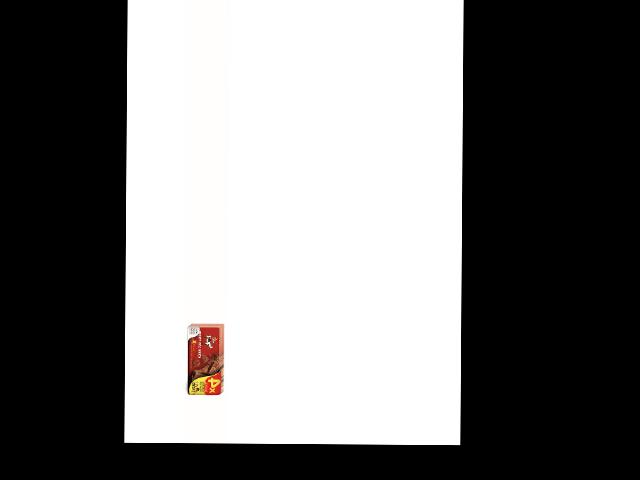chocolate: (185, 324, 223, 396)
